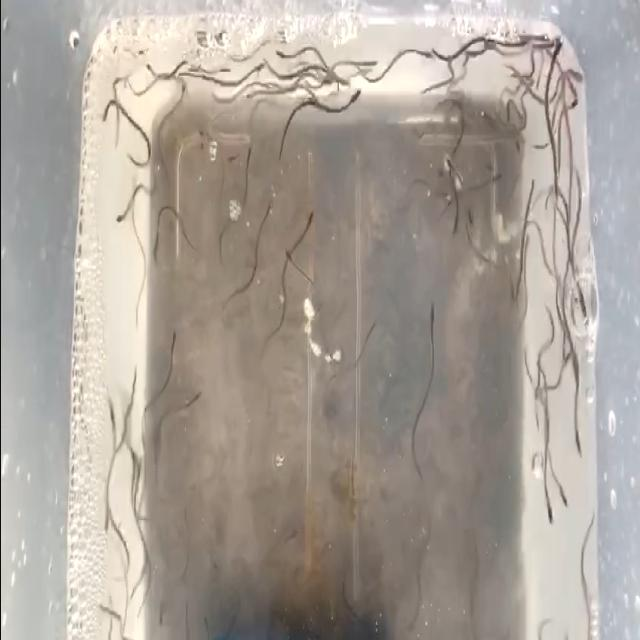inactive_glass_eel: (238, 242, 262, 280), (154, 442, 172, 486), (455, 438, 473, 481), (406, 568, 424, 610), (580, 560, 594, 610), (150, 604, 173, 632), (352, 46, 373, 76), (150, 365, 166, 404), (493, 245, 509, 283), (95, 468, 113, 501), (550, 34, 564, 76), (329, 90, 349, 119), (474, 247, 488, 286), (116, 406, 132, 440), (295, 266, 309, 304), (220, 226, 238, 255), (72, 391, 83, 435), (290, 233, 302, 273), (278, 36, 298, 60), (248, 82, 263, 114), (134, 552, 146, 592), (408, 428, 420, 468), (98, 594, 112, 628), (123, 542, 135, 580), (535, 452, 545, 497), (206, 100, 220, 132), (520, 42, 534, 74), (492, 18, 512, 40), (125, 232, 138, 265), (541, 338, 554, 371), (126, 173, 140, 203), (566, 296, 576, 338), (135, 190, 153, 212), (118, 459, 130, 492), (549, 458, 561, 491), (499, 36, 517, 58), (154, 190, 168, 218), (534, 48, 548, 76), (449, 52, 462, 81), (560, 316, 570, 352), (563, 56, 573, 92), (518, 134, 526, 179), (464, 124, 476, 152), (573, 208, 581, 250), (454, 162, 464, 195), (145, 66, 161, 86), (408, 100, 424, 120), (571, 228, 579, 266), (112, 593, 122, 623), (88, 172, 104, 190), (546, 378, 558, 402), (470, 166, 480, 194), (480, 106, 490, 133), (566, 232, 576, 259), (105, 82, 118, 102), (566, 118, 576, 144), (514, 85, 524, 111), (556, 110, 562, 152)
